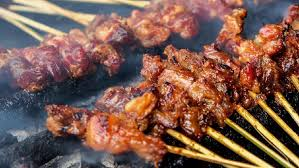sate: (1, 1, 293, 158)
